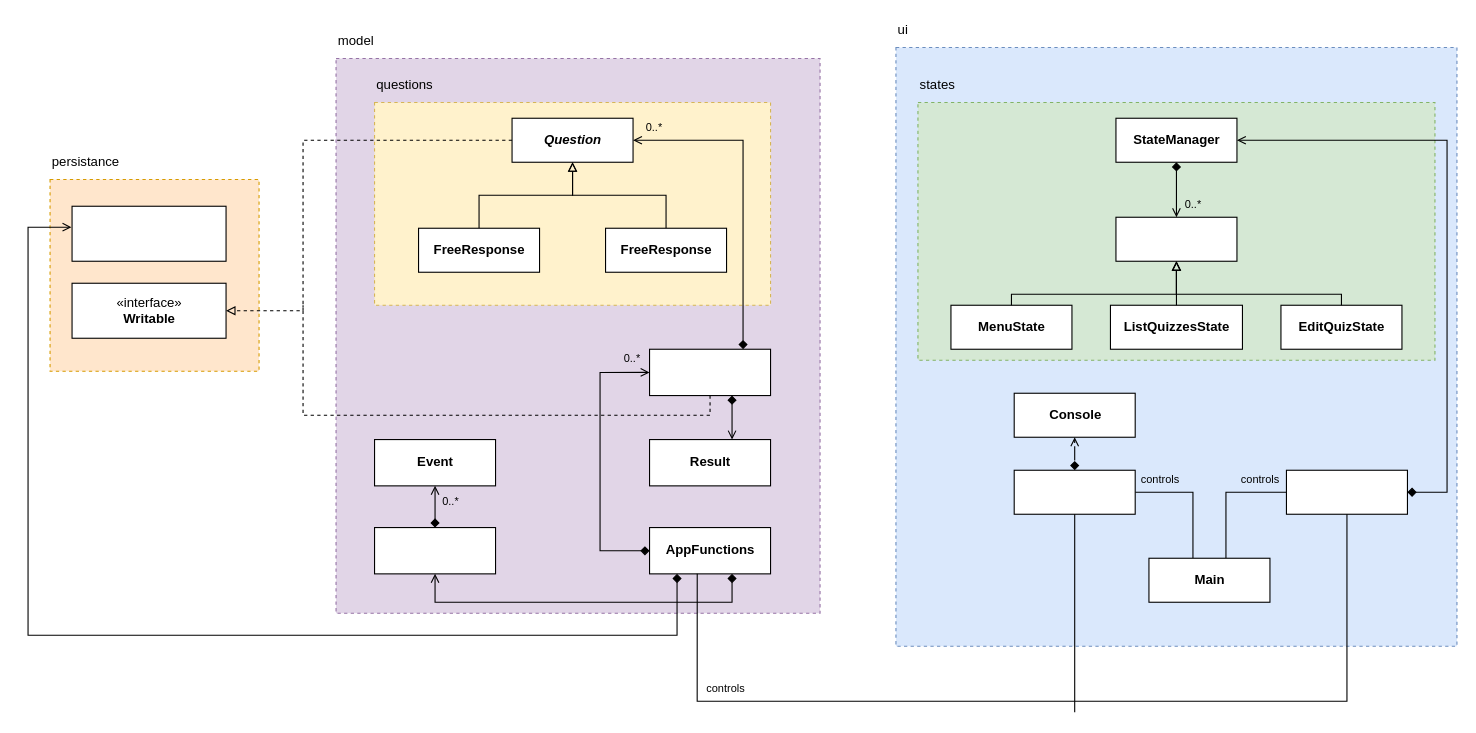
Some shapes in this 1476 by 733 pixel diagram are drawn without their labels. Each missing label, with the box of its shape:
ConsoleApp: (1013, 469, 1135, 514)
DataHandler: (71, 205, 226, 261)
EventLog: (373, 526, 496, 574)
GuiApp: (1285, 469, 1407, 514)
GuiState: (1115, 216, 1237, 261)
Quiz: (648, 348, 771, 396)
